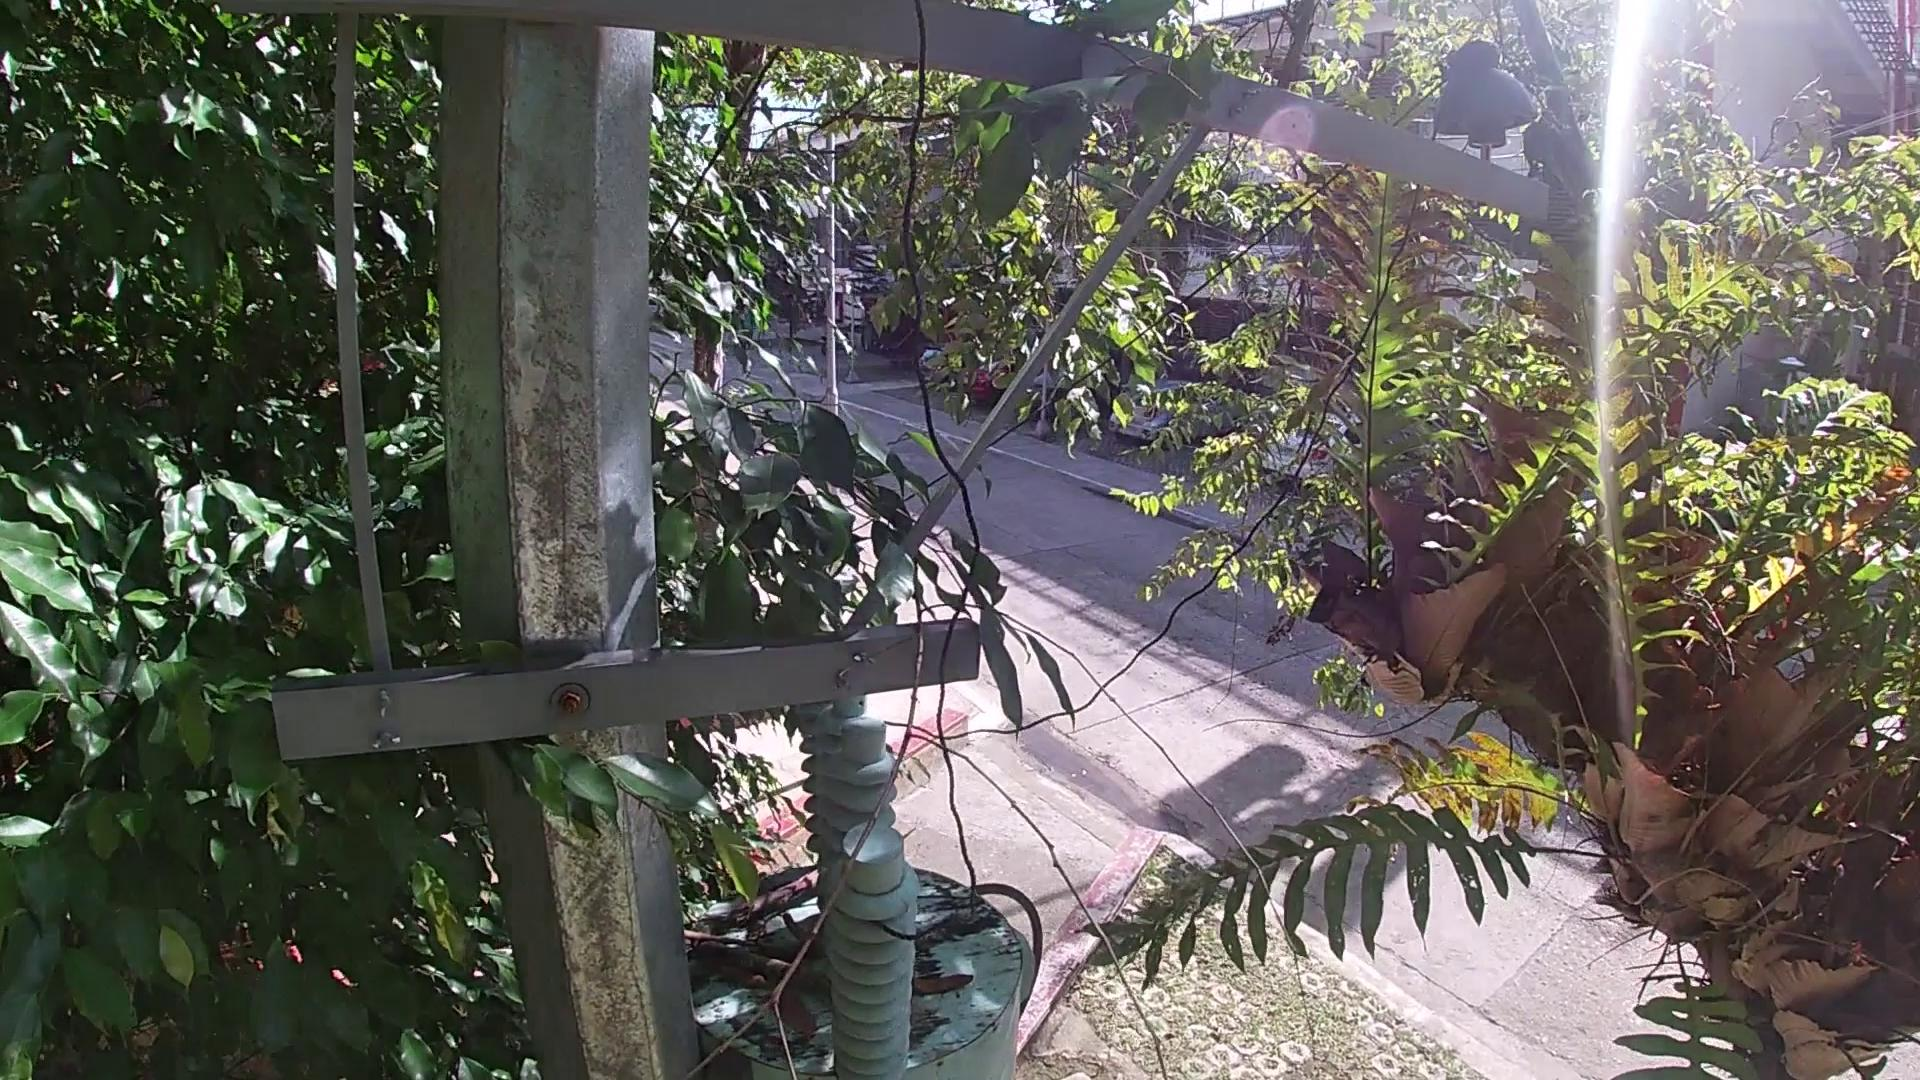leaf: (782, 990, 819, 1048), (724, 975, 778, 990)
mahogany fruit: (778, 910, 825, 942), (909, 975, 971, 998)
tree branch: (647, 533, 1188, 1073), (702, 868, 833, 926), (680, 949, 829, 982), (682, 932, 749, 949)
